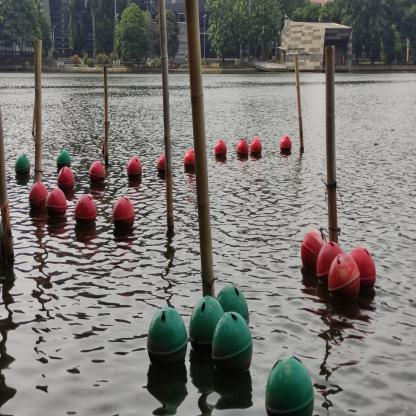green_buoy: (264, 354, 318, 415), (210, 310, 254, 382), (145, 302, 189, 368), (188, 295, 226, 357), (215, 282, 252, 335), (14, 153, 30, 180), (56, 148, 71, 171)
red_buoy: (327, 252, 361, 301), (349, 246, 377, 294), (300, 228, 328, 274), (316, 240, 344, 285), (74, 194, 98, 228), (112, 196, 135, 231), (45, 186, 69, 219), (29, 181, 48, 211), (88, 159, 106, 184), (57, 168, 75, 192), (126, 156, 143, 181), (235, 138, 250, 160), (279, 134, 293, 156), (214, 138, 228, 160), (183, 149, 196, 172), (156, 152, 167, 176), (250, 137, 262, 158)
